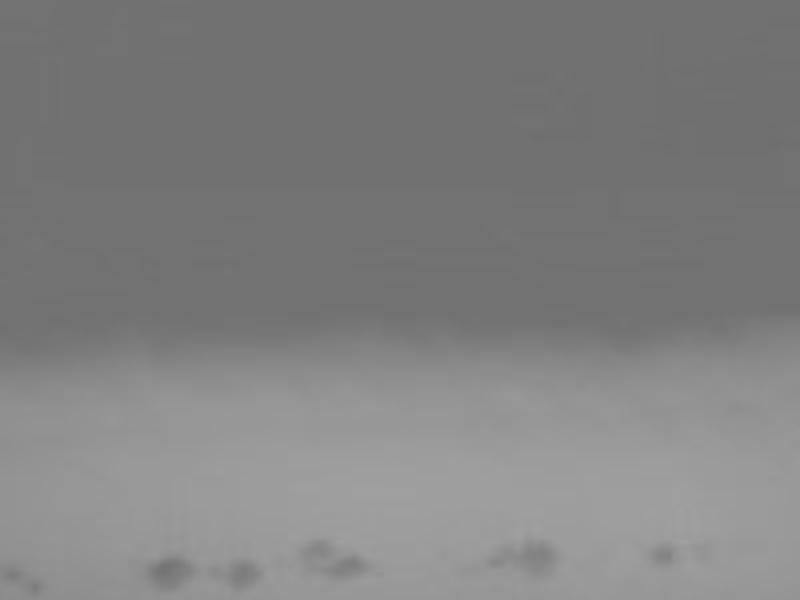defect: (516, 535, 556, 583), (223, 556, 261, 596), (146, 555, 191, 588), (643, 537, 681, 569), (328, 551, 362, 582), (488, 535, 516, 572), (292, 538, 327, 562), (19, 575, 42, 596), (1, 568, 21, 586)
